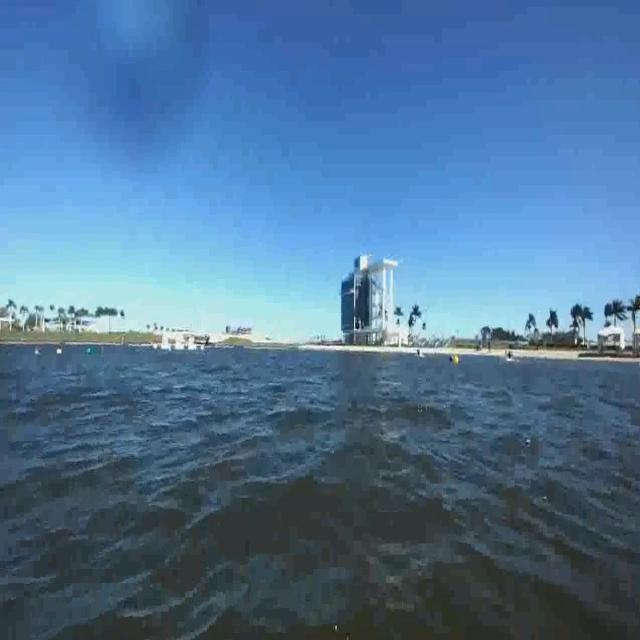yellow-buoy: (452, 354, 458, 366)
